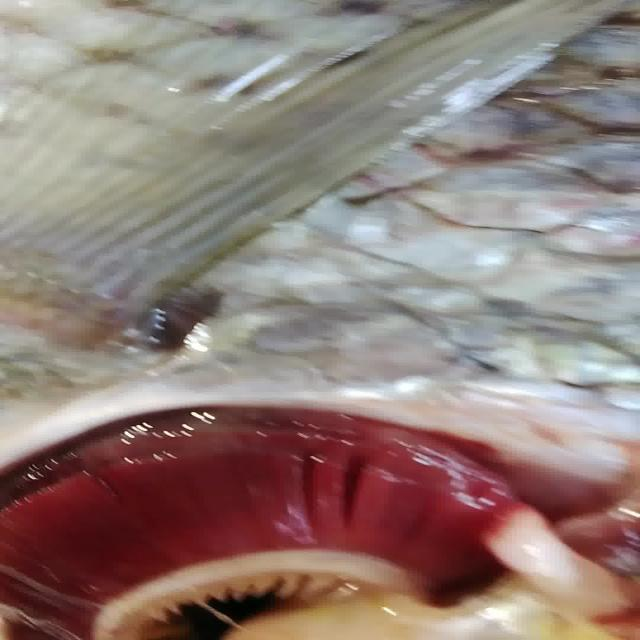Fresh: (0, 386, 574, 618)
